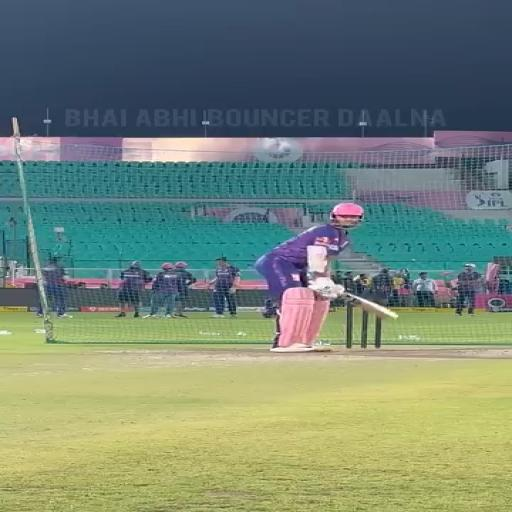Cricket bat: (333, 285, 397, 318)
